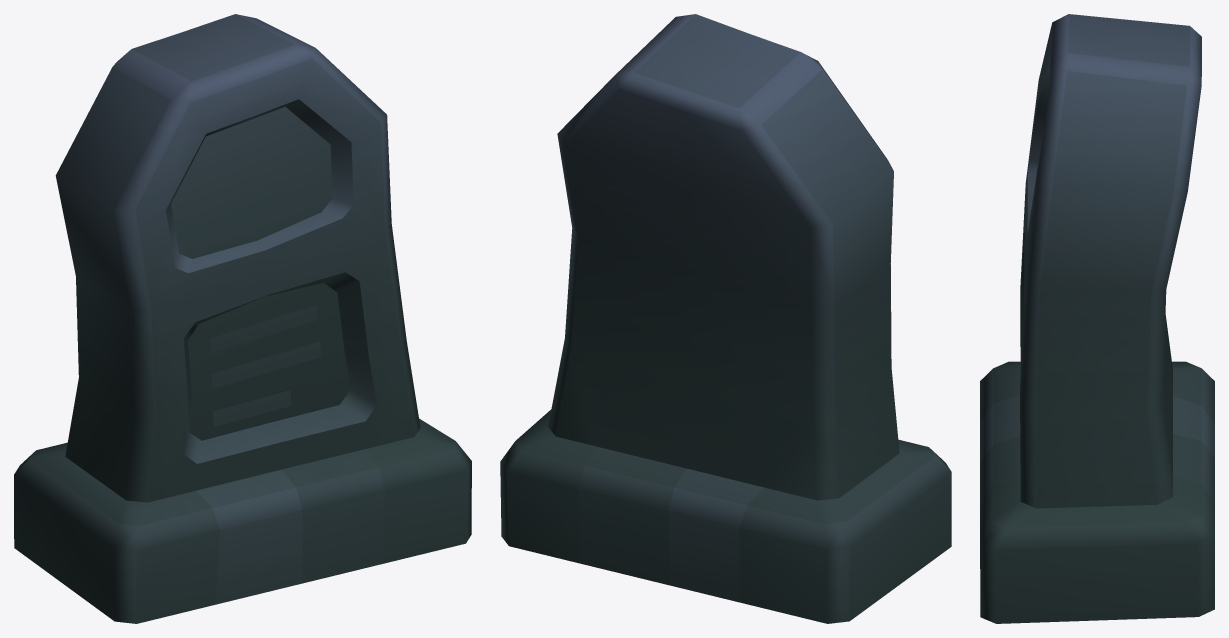
Rendered from undead_tomb_stone_2.fbx.
The picture shows the model from 3 angles, left to right: view 1: azimuth 30°, elevation 25°; view 2: azimuth 150°, elevation 25°; view 3: azimuth 270°, elevation 25°; orthographic projection.
Parts seen in each view (by area): view 1: undead_tomb_stone_2; view 2: undead_tomb_stone_2; view 3: undead_tomb_stone_2.
Part boxes in pixels (x1,y1,x2,y2): undead_tomb_stone_2: (14,14,471,623); undead_tomb_stone_2: (500,14,951,623); undead_tomb_stone_2: (980,14,1214,623).
Size of the model in its own units: 1.45 by 1.94 by 0.8223.
